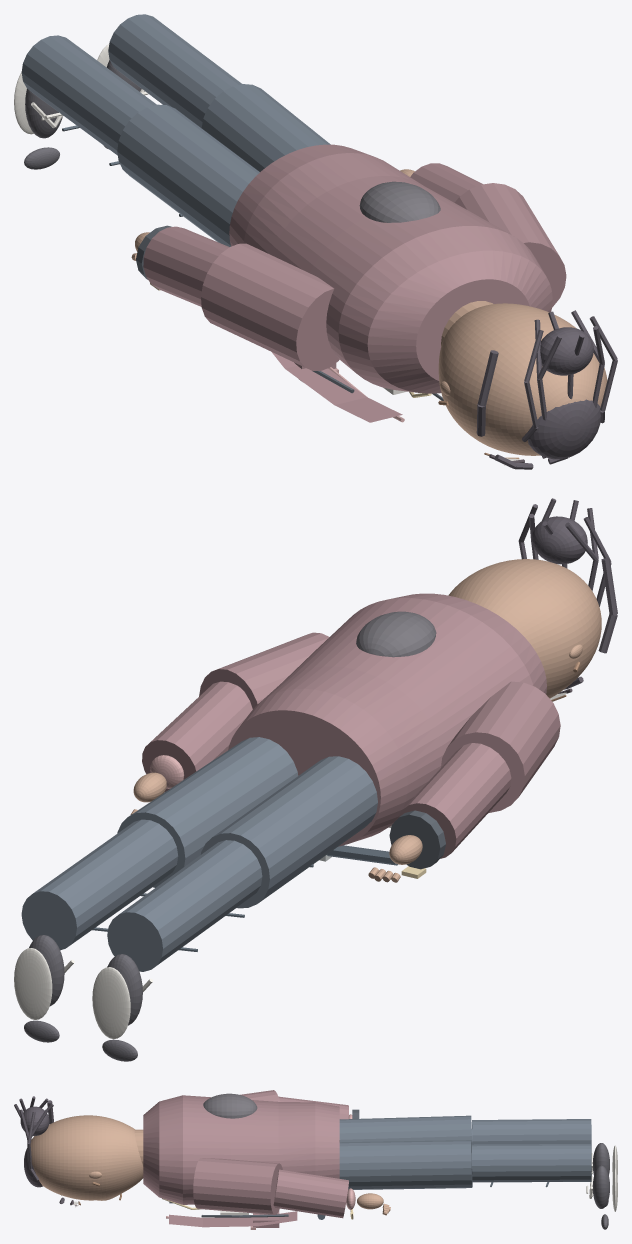
Rendered from thandeka_dlamini.glb.
The picture shows the model from 3 angles, top to bottom: view 1: azimuth 30°, elevation 25°; view 2: azimuth 150°, elevation 25°; view 3: azimuth 270°, elevation 25°; orthographic projection. The views are drawn at different scales.
Visible parts, largest first — view 1: thandeka_dlamini_top, thandeka_dlamini_pants, thandeka_dlamini_skin, thandeka_dlamini_hair, thandeka_dlamini_bag, thandeka_dlamini_shoe, thandeka_dlamini_sole, thandeka_dlamini_topshadow; view 2: thandeka_dlamini_top, thandeka_dlamini_pants, thandeka_dlamini_skin, thandeka_dlamini_hair, thandeka_dlamini_sole, thandeka_dlamini_shoe, thandeka_dlamini_bag, thandeka_dlamini_topshadow, thandeka_dlamini_pantshadow; view 3: thandeka_dlamini_top, thandeka_dlamini_pants, thandeka_dlamini_skin, thandeka_dlamini_hair, thandeka_dlamini_shoe, thandeka_dlamini_bag, thandeka_dlamini_sole, thandeka_dlamini_topshadow, thandeka_dlamini_tophi.
Part boxes in pixels (x1=…): thandeka_dlamini_top: x1=143, y1=144, x2=566, y2=422; thandeka_dlamini_pants: x1=21, y1=14, x2=330, y2=246; thandeka_dlamini_skin: x1=131, y1=169, x2=607, y2=455; thandeka_dlamini_hair: x1=476, y1=310, x2=617, y2=469; thandeka_dlamini_bag: x1=359, y1=181, x2=440, y2=222; thandeka_dlamini_shoe: x1=24, y1=60, x2=141, y2=169; thandeka_dlamini_sole: x1=14, y1=44, x2=148, y2=134; thandeka_dlamini_topshadow: x1=136, y1=225, x2=443, y2=400; thandeka_dlamini_top: x1=142, y1=593, x2=560, y2=858; thandeka_dlamini_pants: x1=21, y1=737, x2=377, y2=971; thandeka_dlamini_skin: x1=130, y1=559, x2=601, y2=882; thandeka_dlamini_hair: x1=518, y1=498, x2=617, y2=689; thandeka_dlamini_sole: x1=14, y1=948, x2=152, y2=1039; thandeka_dlamini_shoe: x1=24, y1=935, x2=142, y2=1061; thandeka_dlamini_bag: x1=356, y1=611, x2=436, y2=657; thandeka_dlamini_topshadow: x1=389, y1=810, x2=445, y2=869; thandeka_dlamini_pantshadow: x1=92, y1=845, x2=397, y2=951; thandeka_dlamini_top: x1=143, y1=1090, x2=348, y2=1227; thandeka_dlamini_pants: x1=339, y1=1115, x2=591, y2=1189; thandeka_dlamini_skin: x1=30, y1=1115, x2=390, y2=1215; thandeka_dlamini_hair: x1=14, y1=1096, x2=64, y2=1203; thandeka_dlamini_shoe: x1=592, y1=1143, x2=609, y2=1229; thandeka_dlamini_bag: x1=203, y1=1093, x2=257, y2=1118; thandeka_dlamini_sole: x1=586, y1=1145, x2=617, y2=1211; thandeka_dlamini_topshadow: x1=169, y1=1109, x2=359, y2=1217; thandeka_dlamini_tophi: x1=166, y1=1114, x2=355, y2=1229.
Bounding box in the file's own units: 0.6492 × 0.3826 × 1.75.
